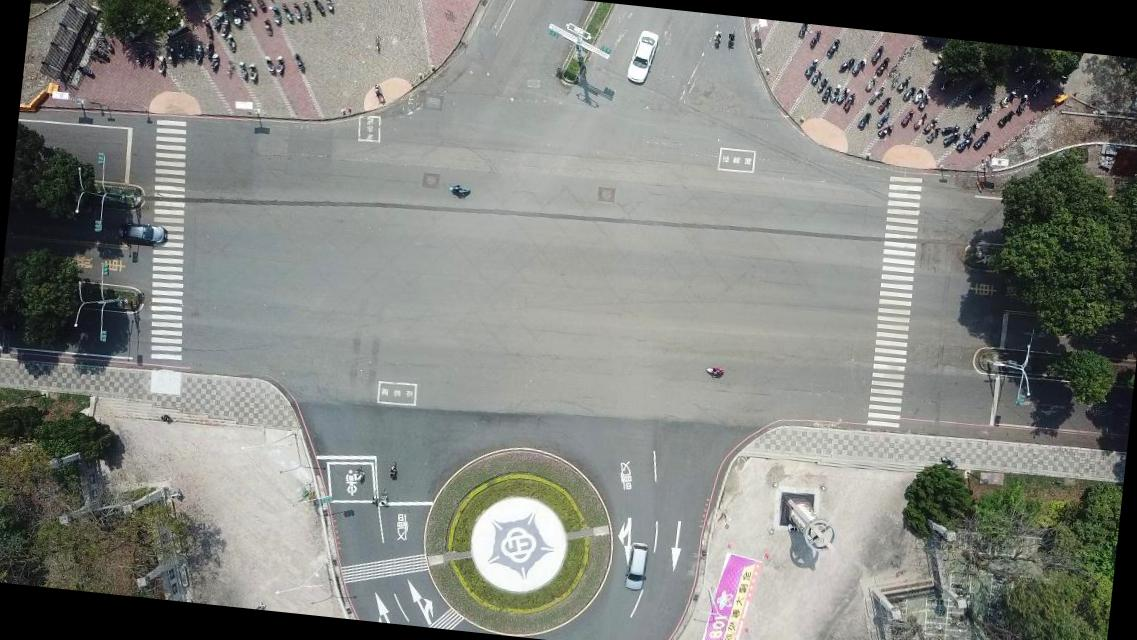vehicle: (624, 28, 660, 88), (623, 540, 649, 594), (117, 220, 169, 244)
